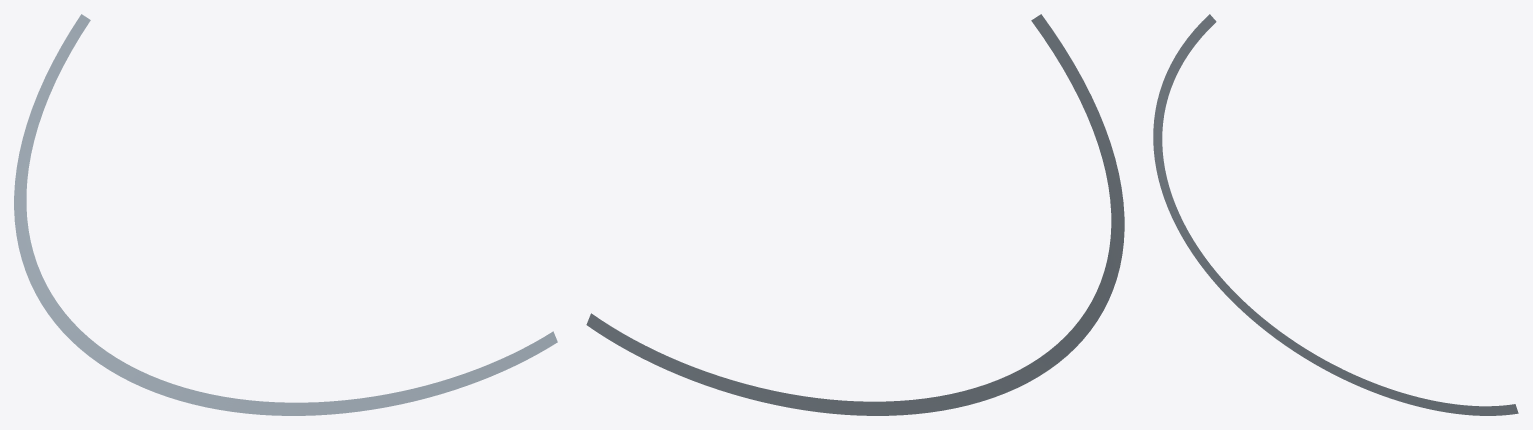
The model's file is Sucrose_LargeWindSpiritPulse_Pyro_GatheringWind_35_3.fbx.
3 renders of one model, left to right at view 1: azimuth 30°, elevation 25°; view 2: azimuth 150°, elevation 25°; view 3: azimuth 330°, elevation 25°, orthographic. The views are drawn at different scales.
Parts seen in each view (by area): view 1: PART_GatheringWind_35_3; view 2: PART_GatheringWind_35_3; view 3: PART_GatheringWind_35_3.
Part boxes in pixels (x1,y1,x2,y2): PART_GatheringWind_35_3: (14,14,557,415); PART_GatheringWind_35_3: (586,14,1124,415); PART_GatheringWind_35_3: (1153,14,1518,415).
Size of the model in its own units: 295 by 241 by 25.85.
